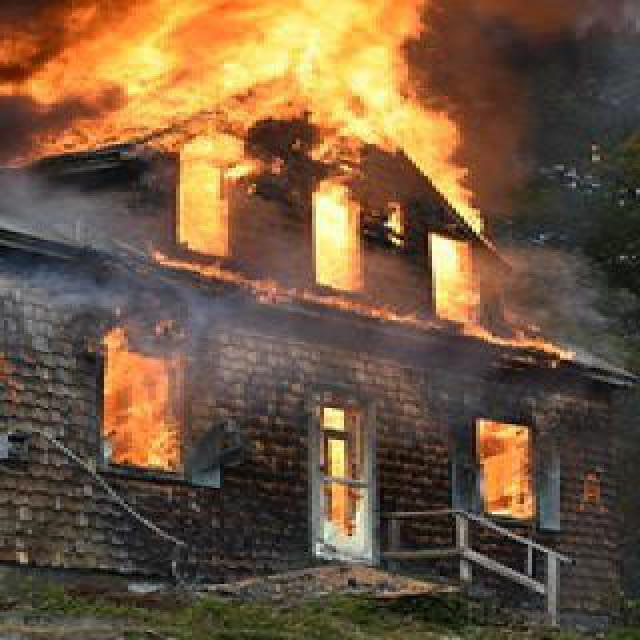Fire: (4, 6, 476, 166), (90, 344, 194, 470), (470, 414, 574, 522), (300, 166, 372, 294), (424, 164, 474, 322), (178, 166, 256, 266), (464, 328, 580, 368)
Smoke: (4, 176, 148, 328)
